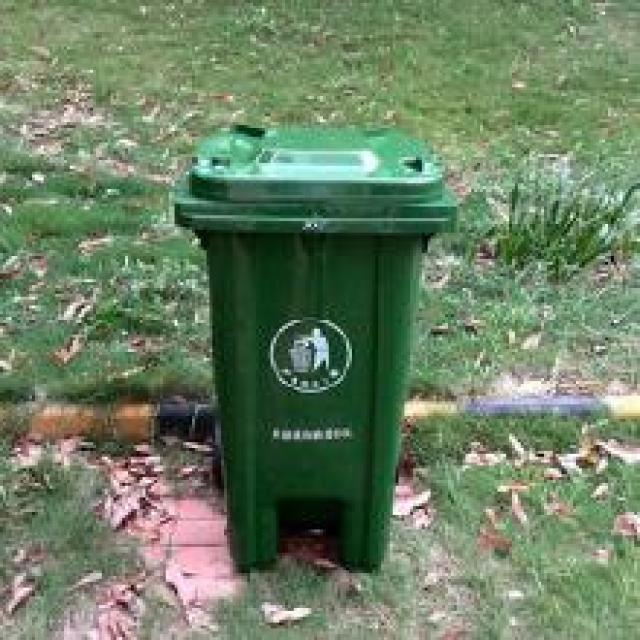garbage_bin: (172, 122, 454, 567)
